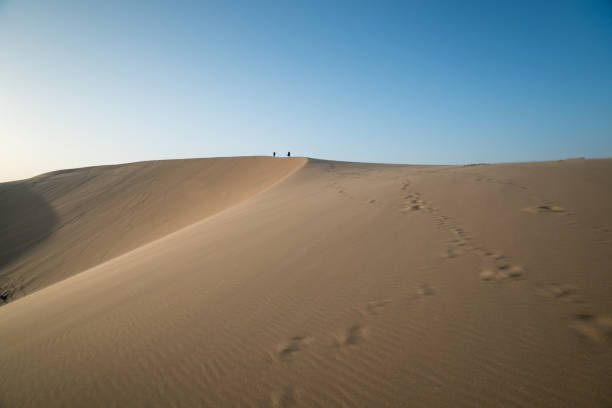human_footprint: (432, 210, 525, 280), (432, 211, 525, 280), (570, 313, 611, 344), (540, 283, 583, 302), (276, 336, 309, 360), (480, 263, 524, 280), (270, 386, 299, 407), (337, 324, 364, 346), (360, 298, 389, 316), (523, 204, 569, 214), (402, 192, 425, 211), (415, 284, 435, 296)
